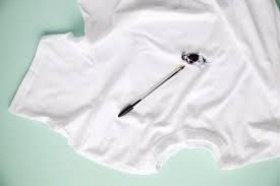ink: (185, 55, 199, 63)
